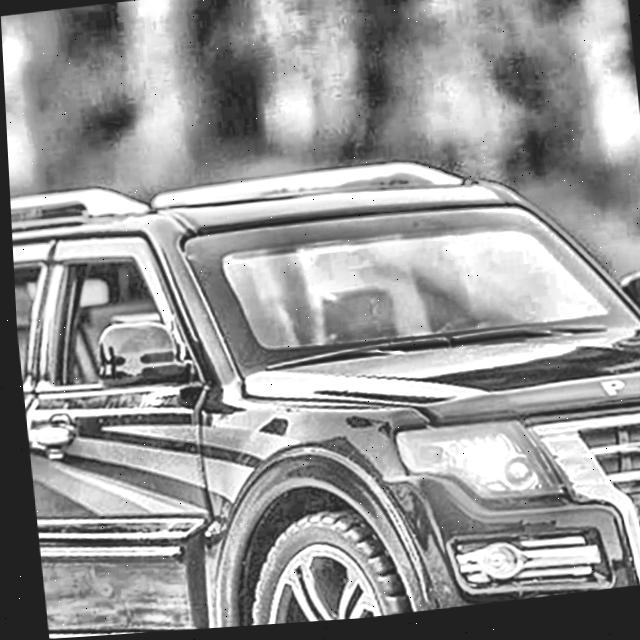light_vehicle: (7, 131, 640, 640)
